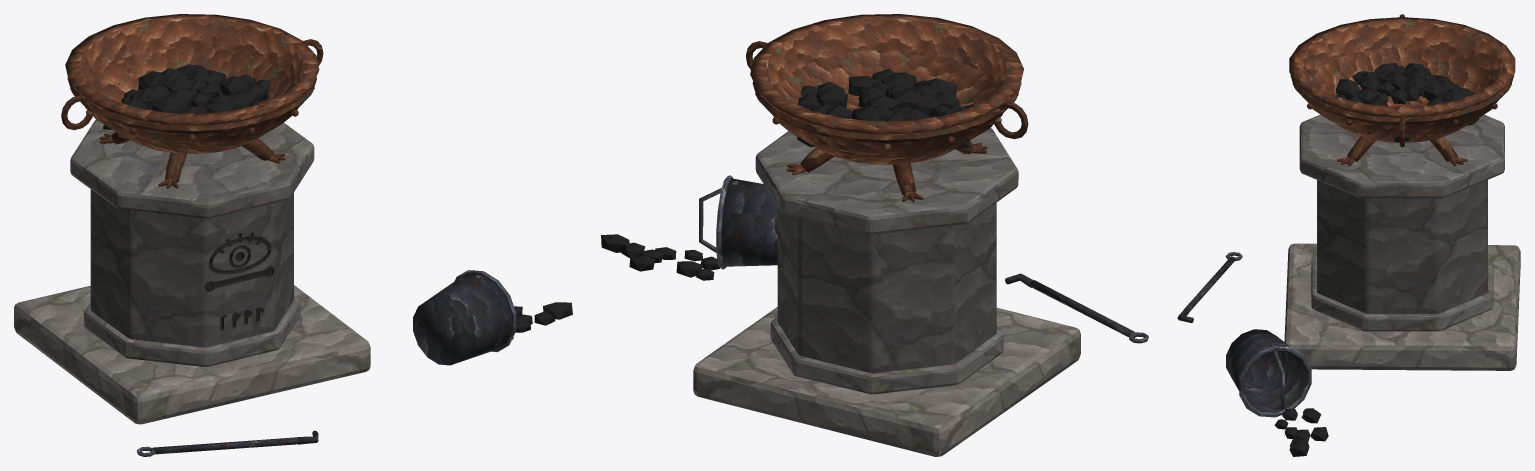
File: vo_brazier_cold.glb
3 views of the same model, side by side, from view 1: azimuth 30°, elevation 25°; view 2: azimuth 150°, elevation 25°; view 3: azimuth 270°, elevation 25° (orthographic). The views are drawn at different scales.
Parts seen in each view (by area): view 1: model; view 2: model; view 3: model.
Boxes of the visible parts, <box> form: model: <box>14,14,572,456</box>; model: <box>601,14,1148,456</box>; model: <box>1177,14,1520,456</box>.
Bounding box in the file's own units: 1.58 × 0.92 × 1.11.
9 materials, 7 textured.
